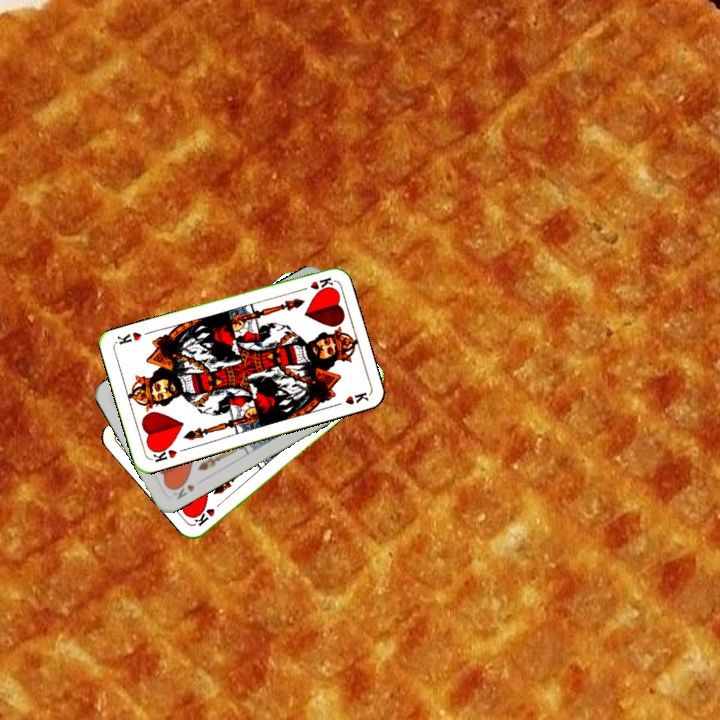HK: (190, 496, 226, 529), (148, 442, 188, 465), (295, 273, 335, 294), (167, 477, 198, 502)
